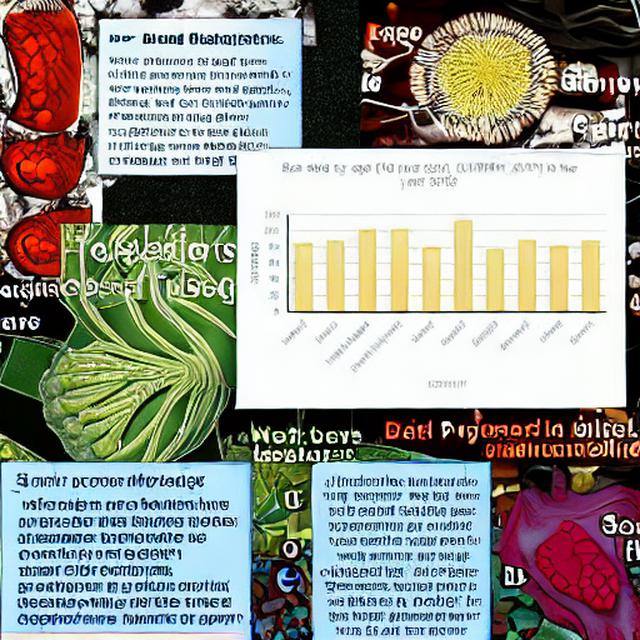Graph: (244, 158, 613, 397)
